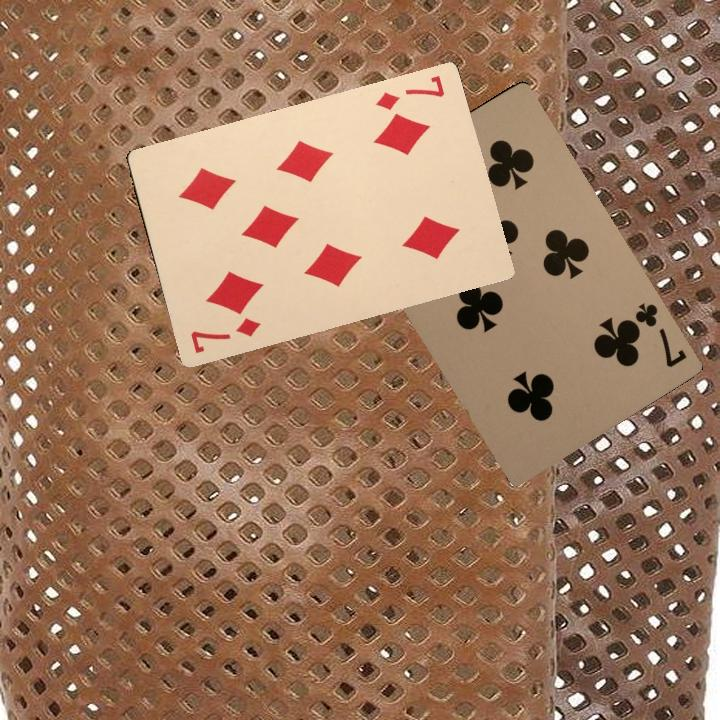7c: (623, 298, 690, 371)
7d: (187, 313, 263, 356), (371, 71, 447, 113)
